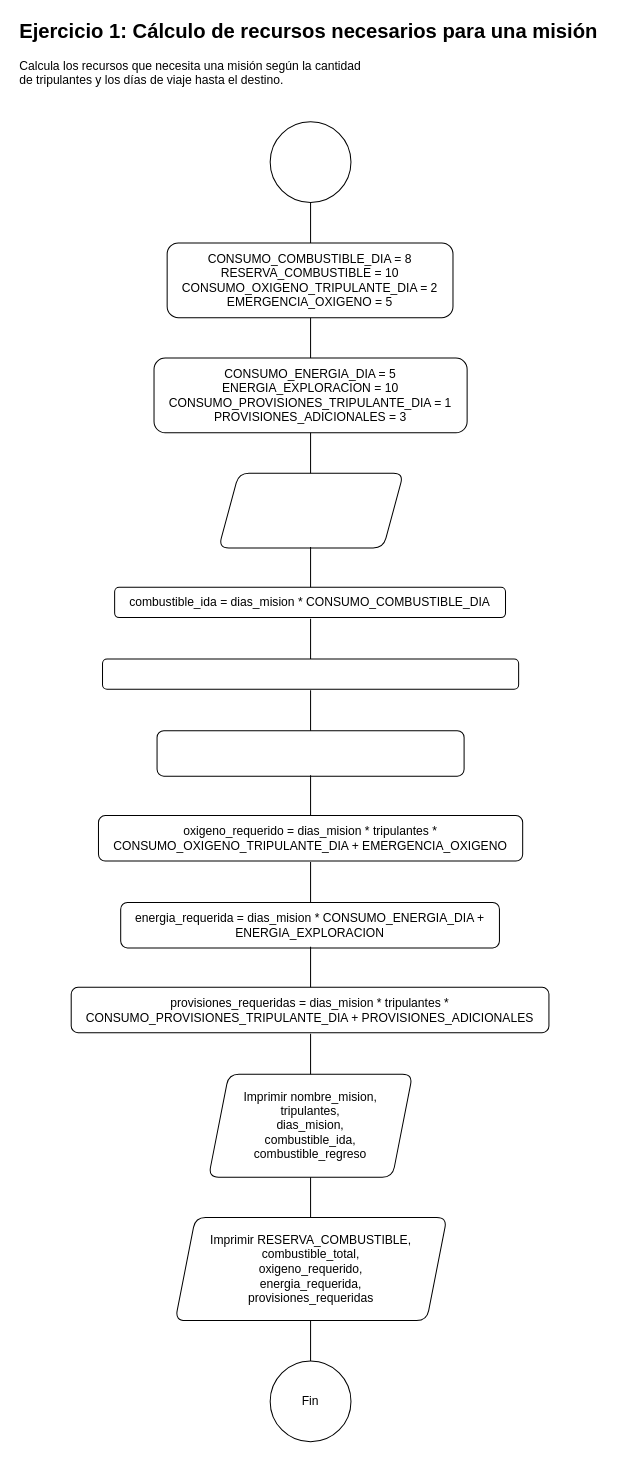
Some shapes in this 644 by 1459 pixel diagram are drawn without their labels. Each missing label, with the centre of its shape:
"combustible_regreso = dias_mision * CONSUMO_COMBUSTIBLE_DIA" goes at pixel 310 673.
"combustible_total = combustible_ida + combustible_regreso + RESERVA_COMBUSTIBLE" goes at pixel 310 753.
"Inicio" goes at pixel 310 162.
"Leer nombre_mision, tripulantes, dias_mision" goes at pixel 310 510.
